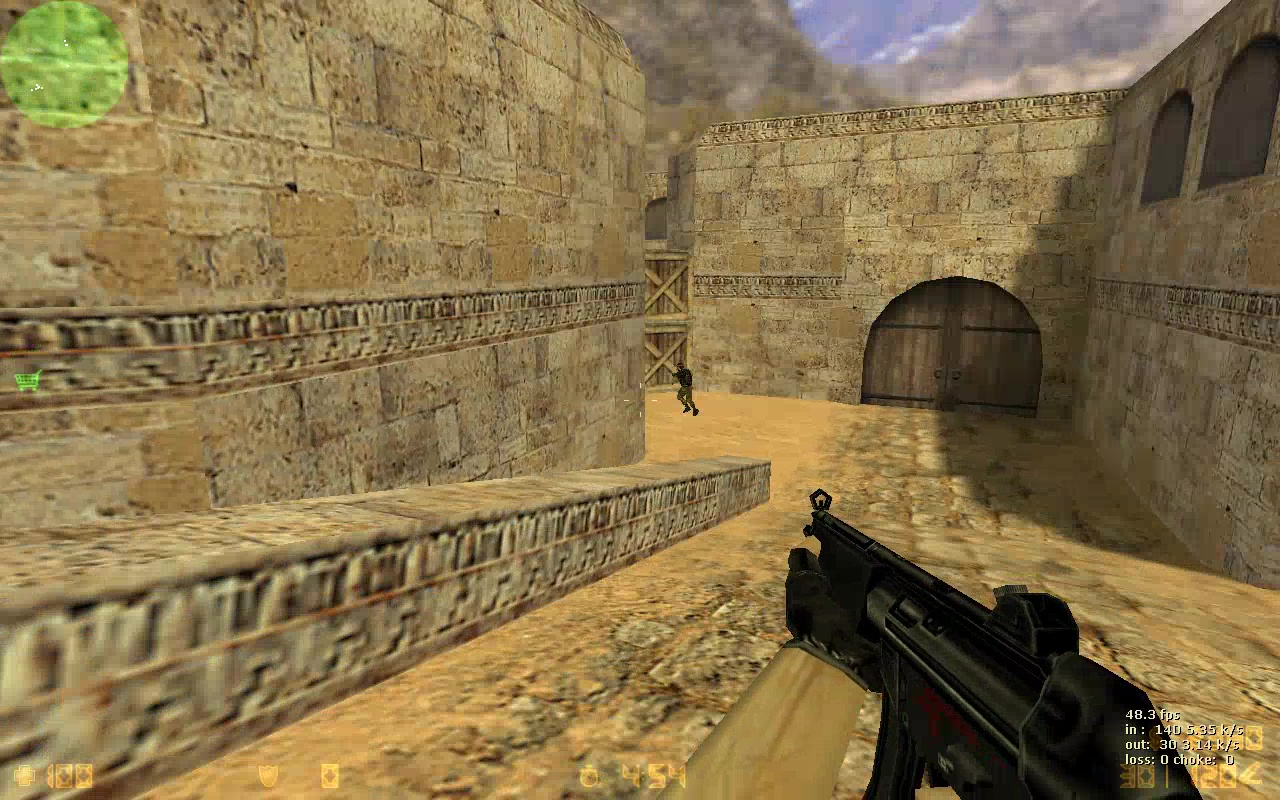terr1: (672, 363, 704, 415)
